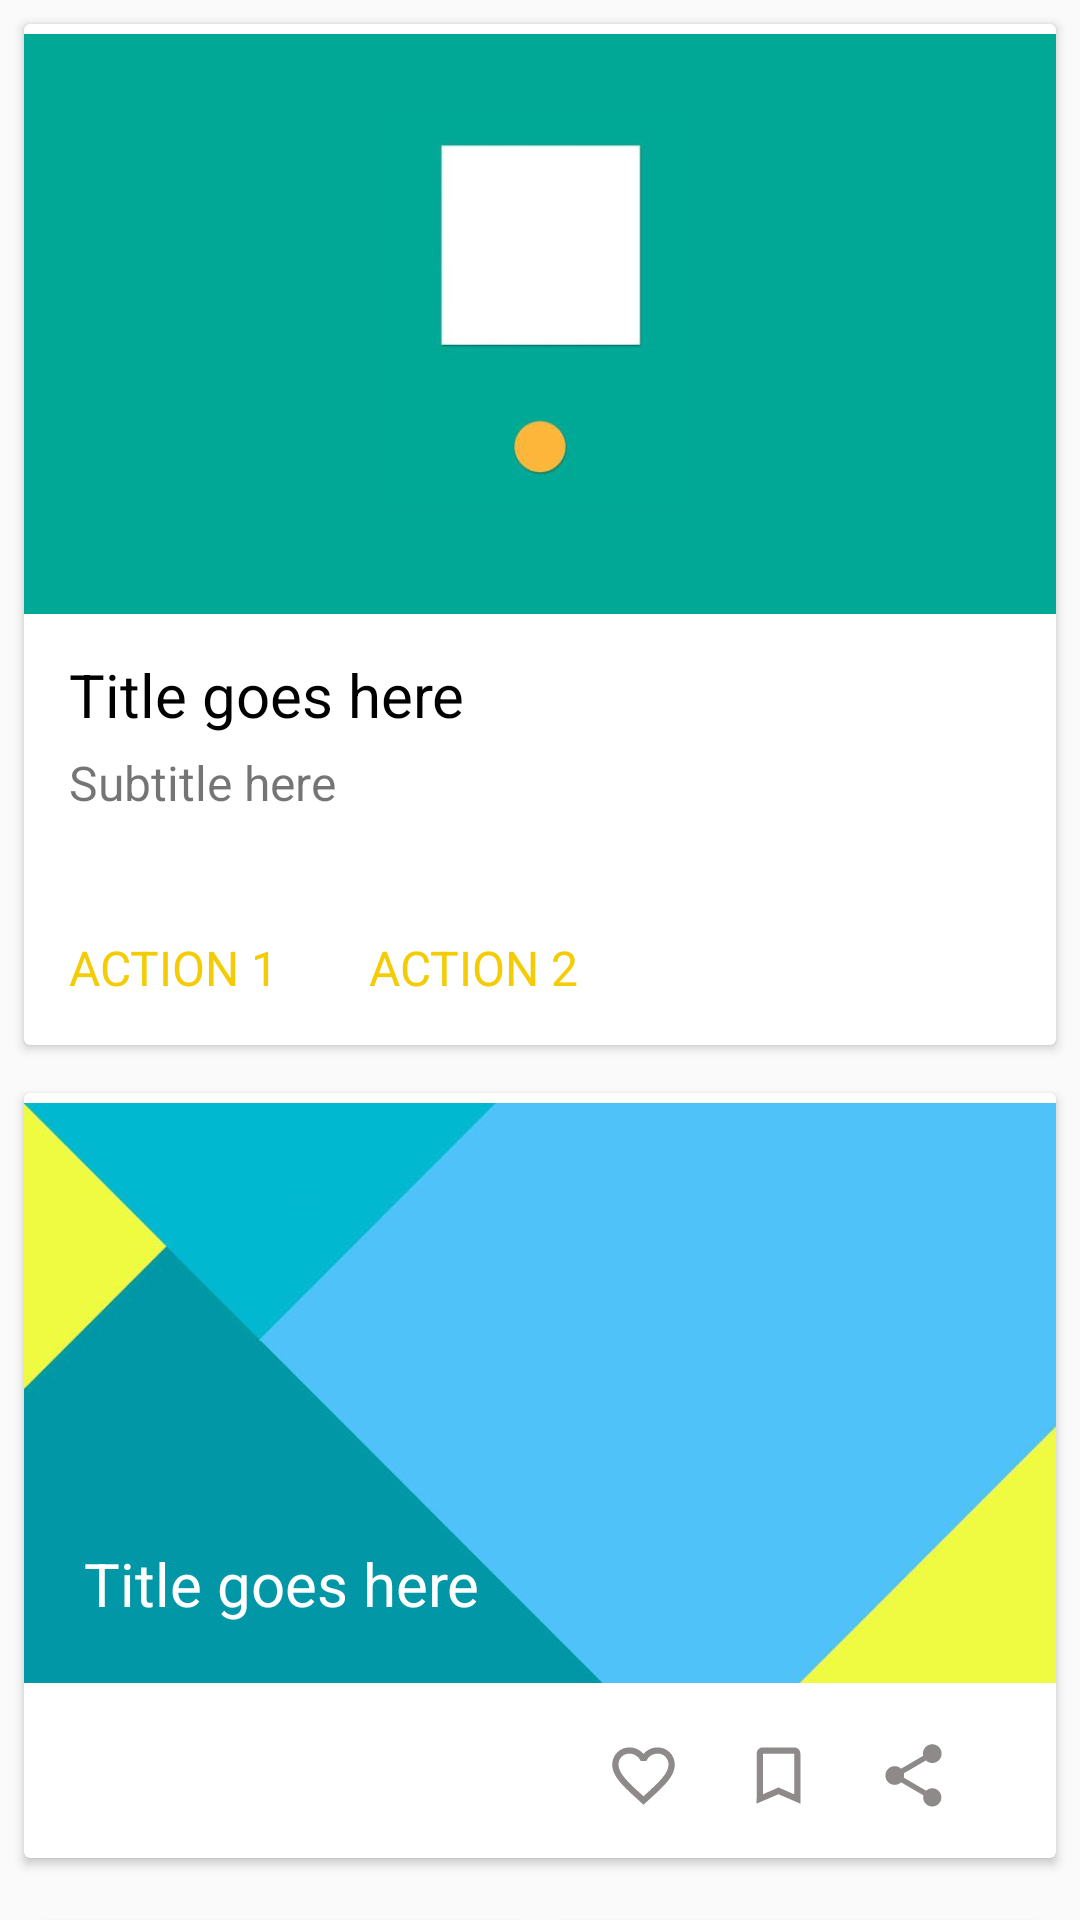

Icon bounding boxes for this 1080 x 1920 phone screenshot, format (x1, y1, x2, y2):
love pc: (612, 1747, 675, 1805)
share pc: (885, 1744, 942, 1807)
